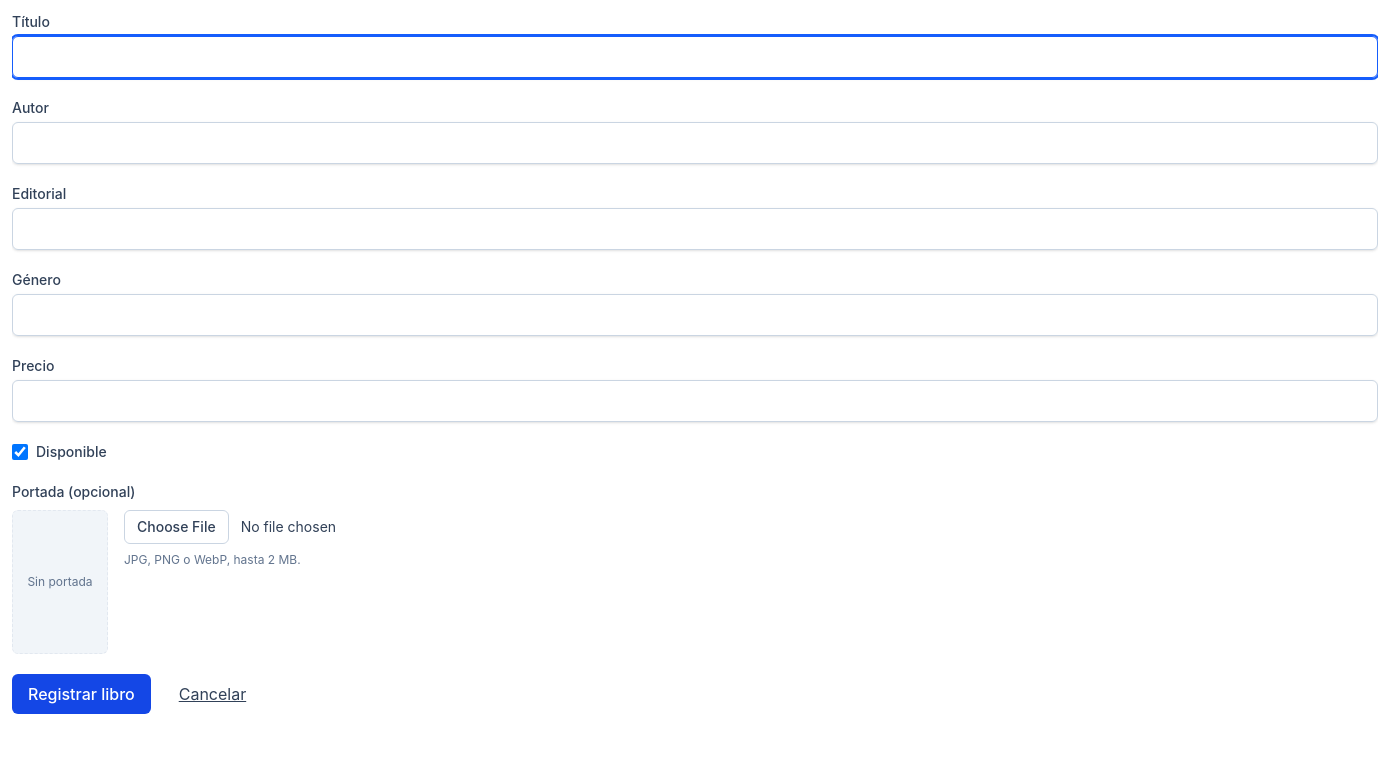
BookForm › validation › rejects the price 0 with one message
In the field labelled "Título": (695, 57) x1=12 y1=36 x2=1378 y2=78, type "Dune"
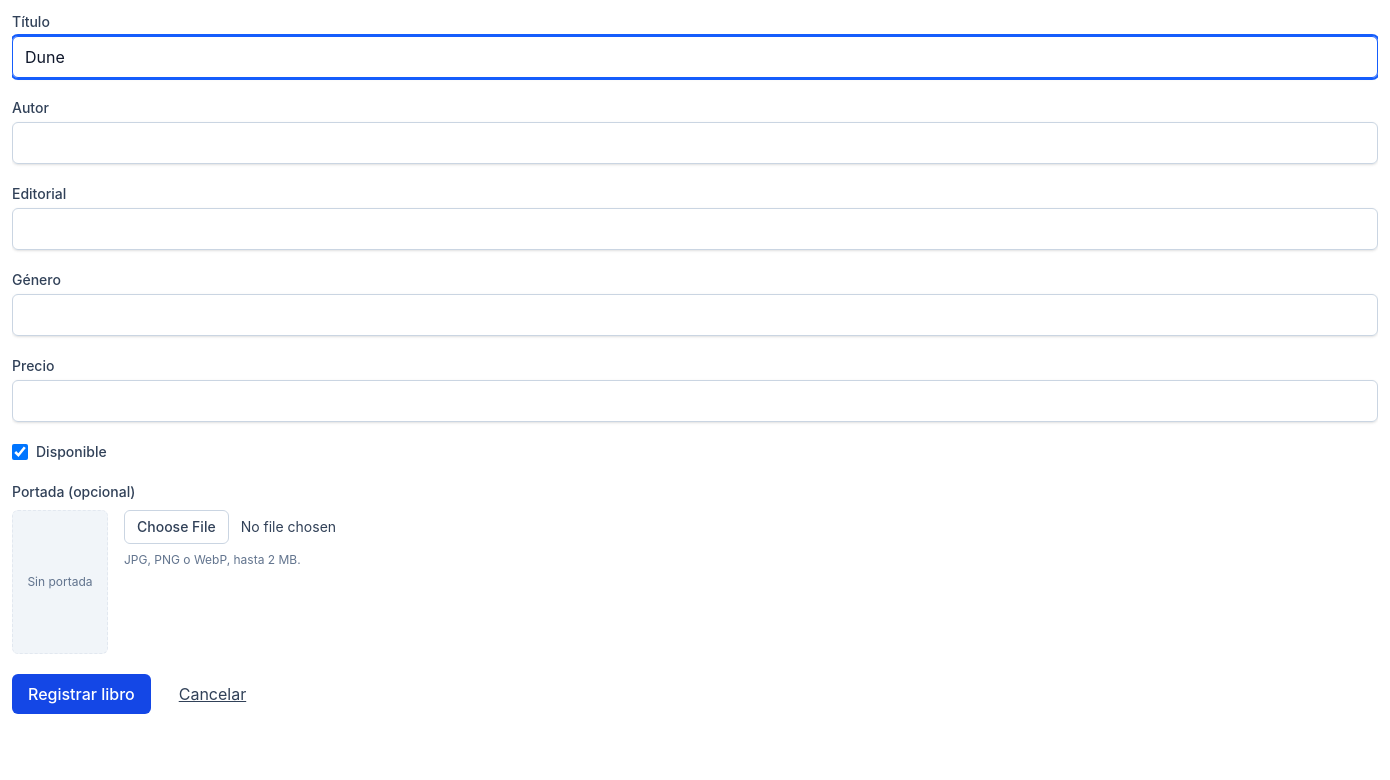
In the field labelled "Autor": (695, 143) x1=12 y1=122 x2=1378 y2=164, type "Frank Herbert"
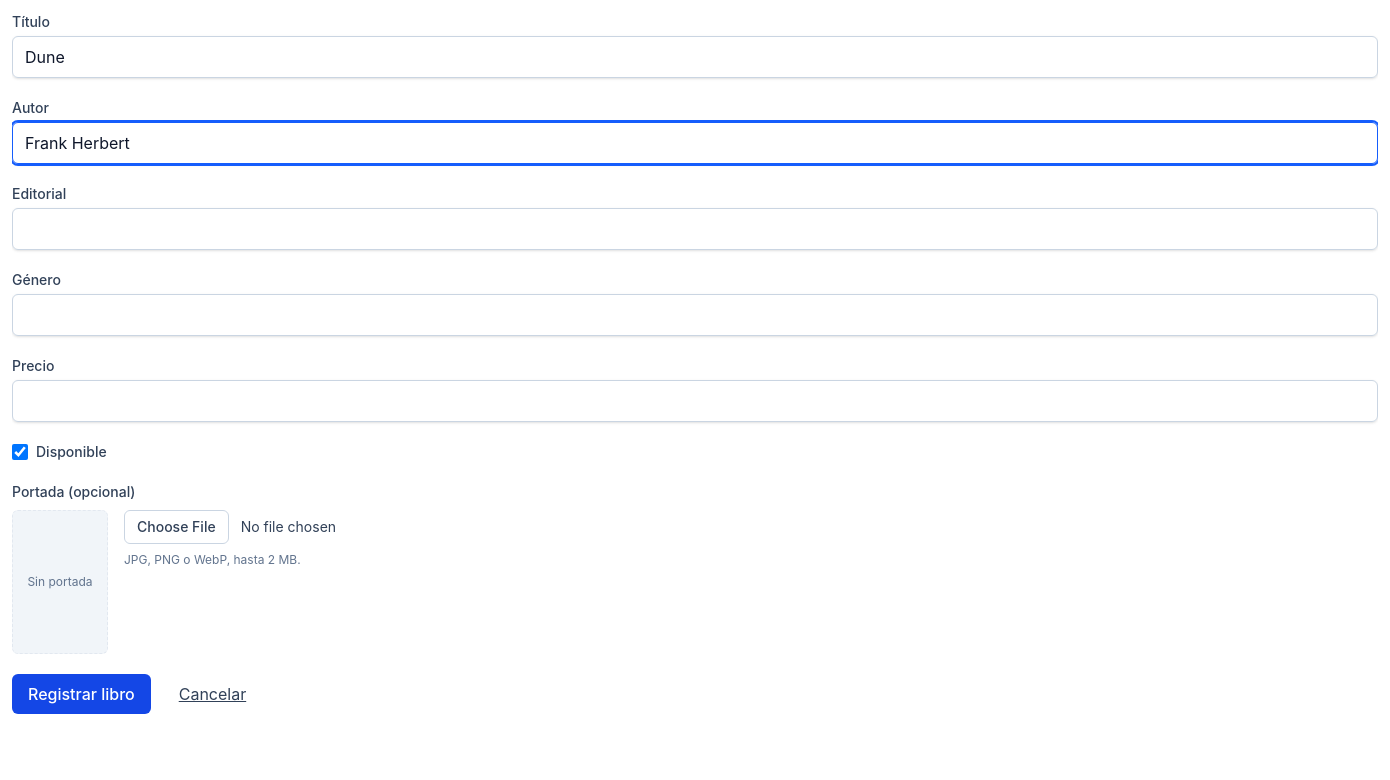
In the field labelled "Editorial": (695, 229) x1=12 y1=208 x2=1378 y2=250, type "Ace"
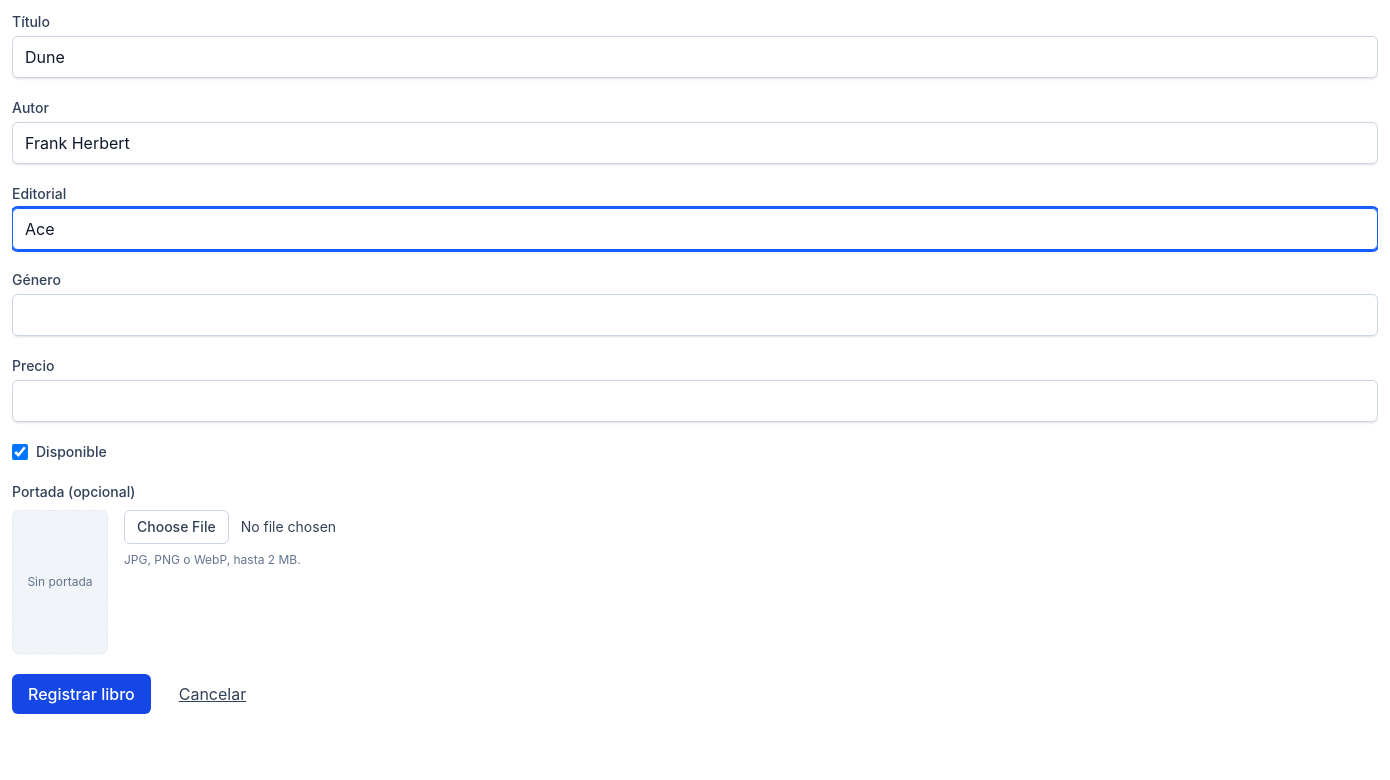
In the field labelled "Género": (695, 315) x1=12 y1=294 x2=1378 y2=336, type "Ciencia ficción"
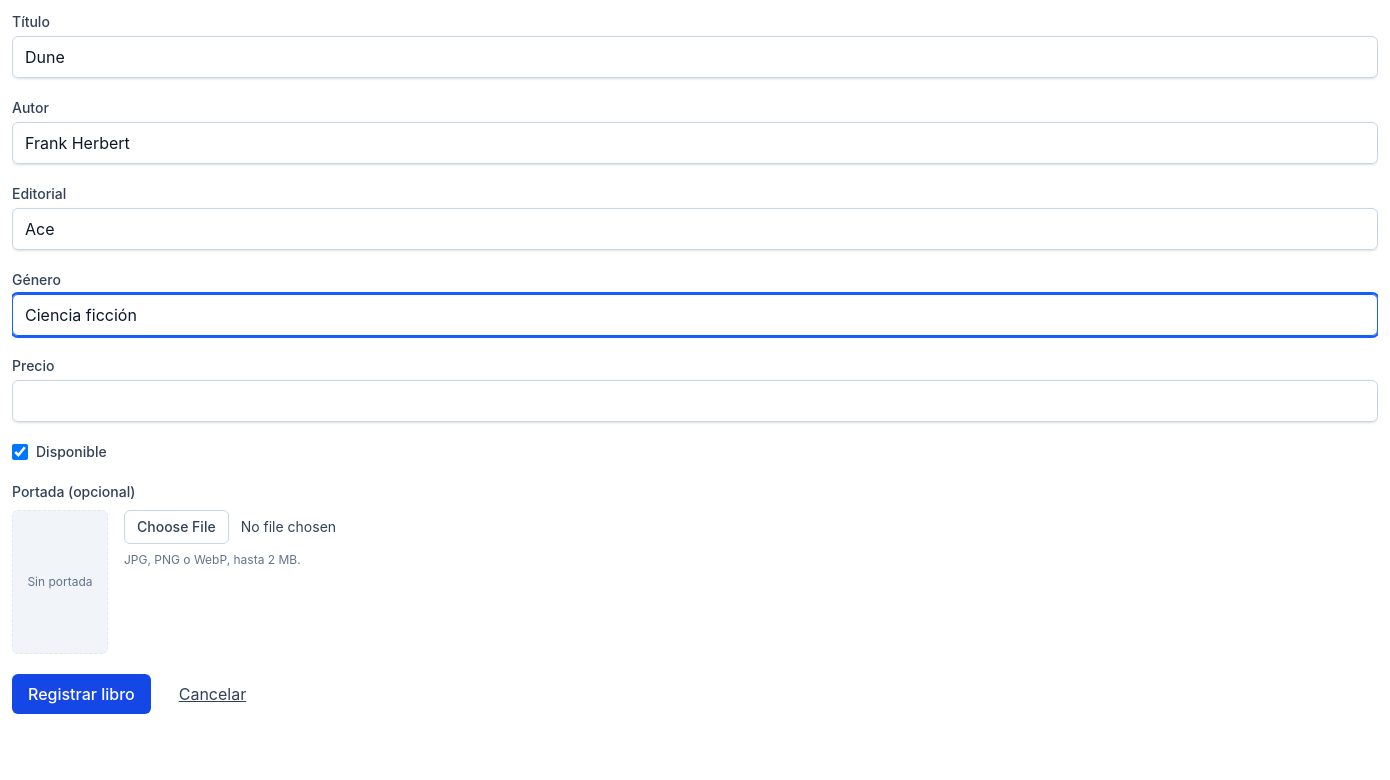
In the number field labelled "Precio": (695, 401) x1=12 y1=380 x2=1378 y2=422, type "0"
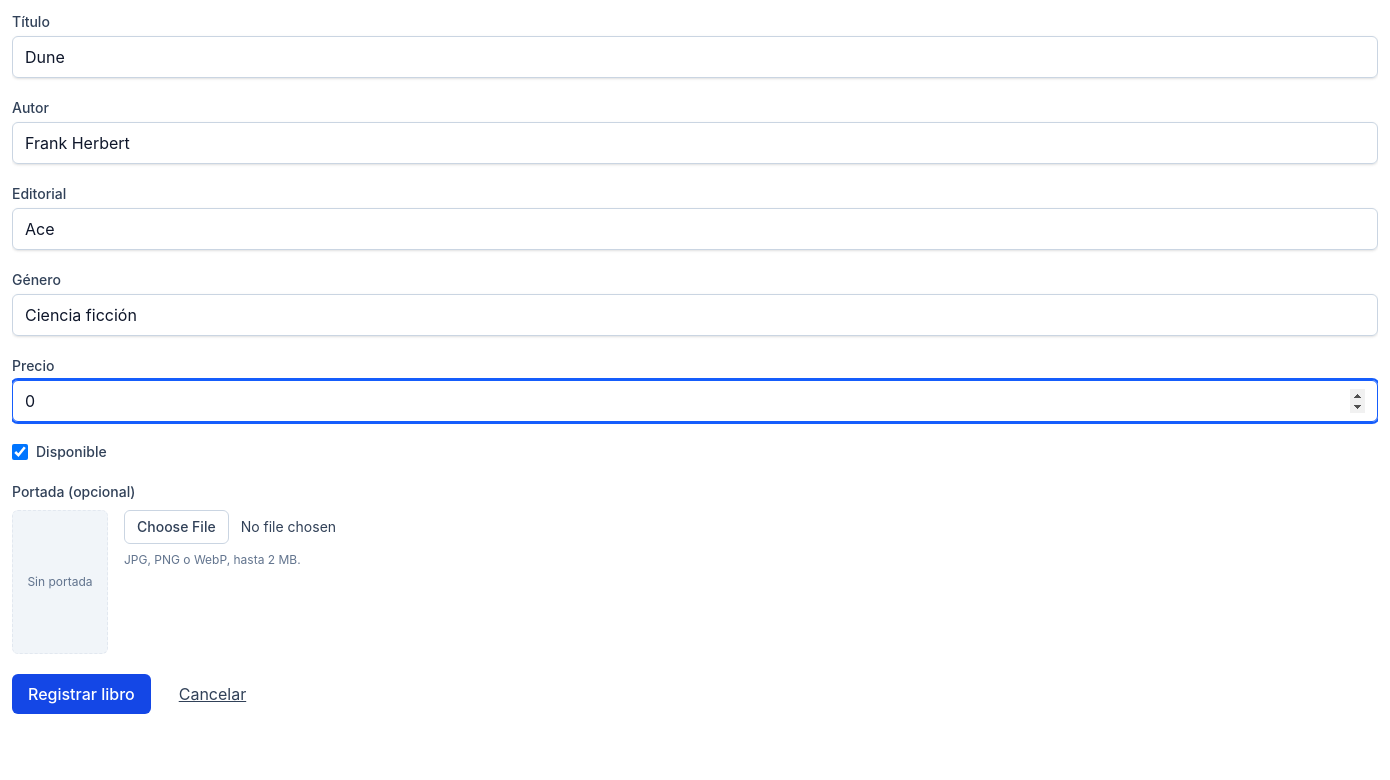
Click the button "Registrar libro": (81, 694) x1=12 y1=674 x2=151 y2=714
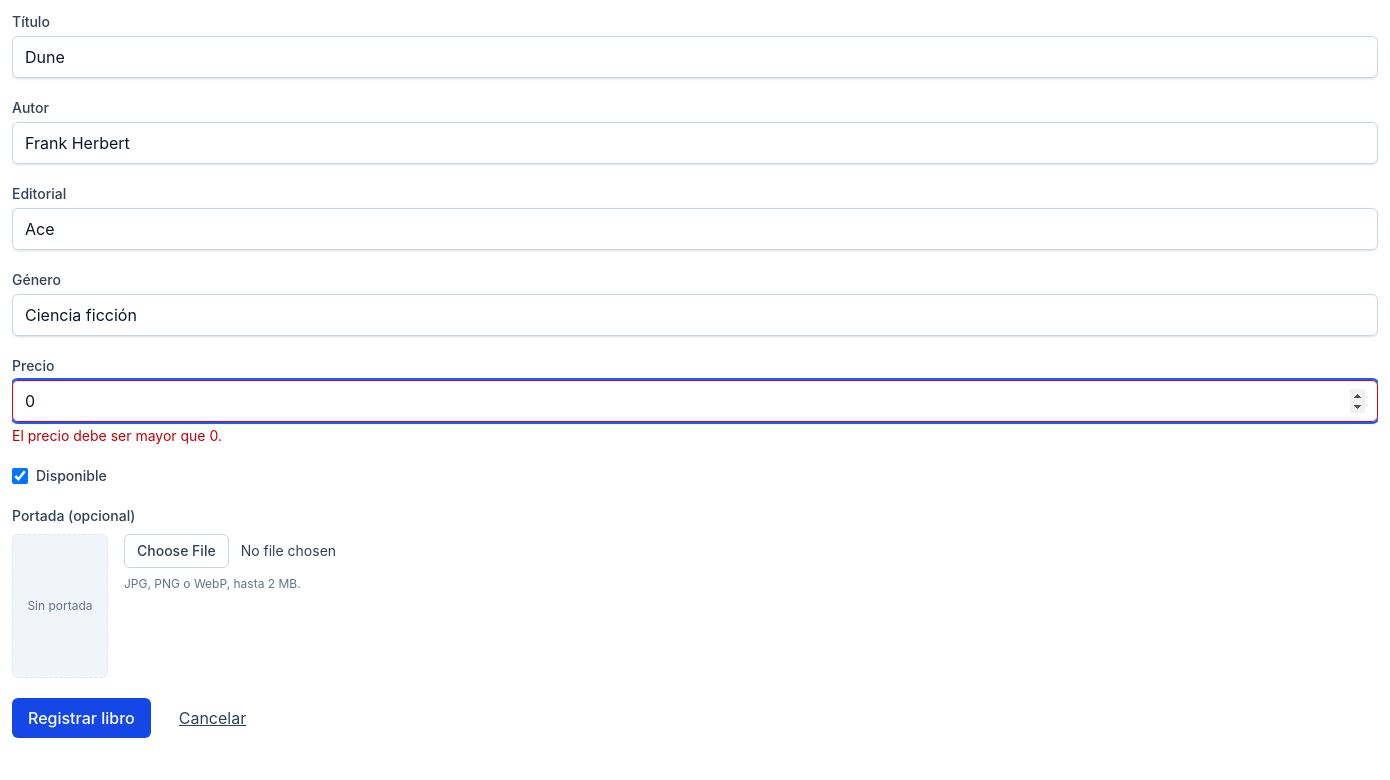
Expected: the text "El precio debe ser mayor que 0." is shown, x1=12 y1=427 x2=222 y2=444
